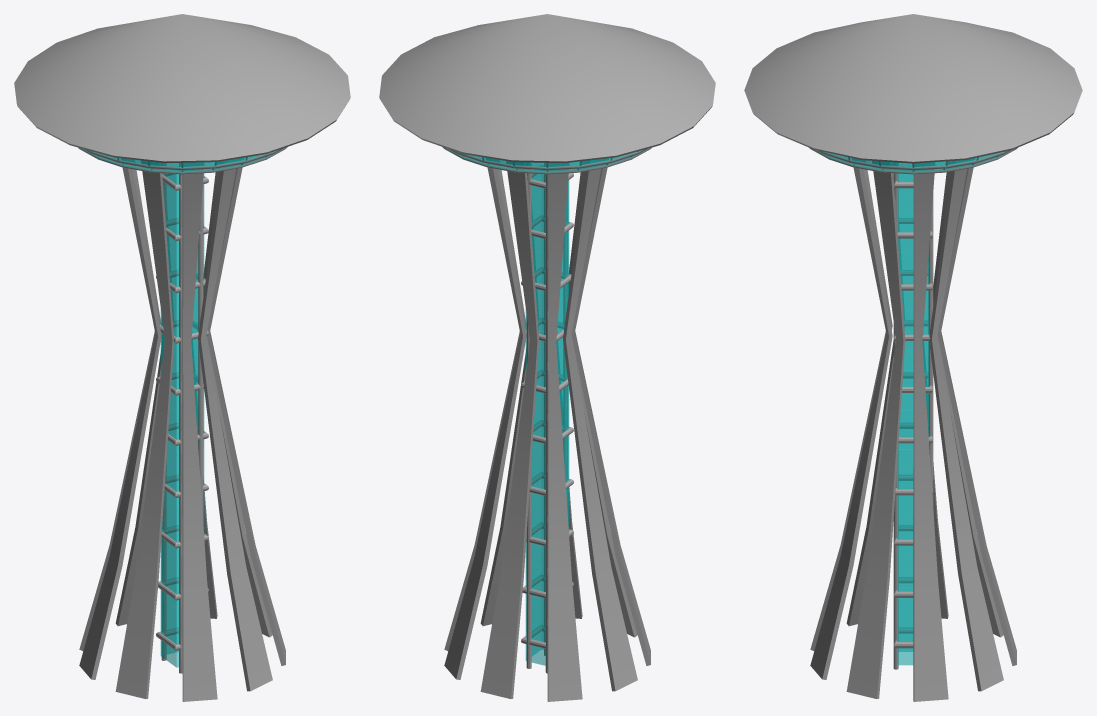
Rendered from TestSkyroom.fbx.
3 renders of one model, left to right at view 1: azimuth 30°, elevation 25°; view 2: azimuth 150°, elevation 25°; view 3: azimuth 270°, elevation 25°, orthographic.
Parts seen in each view (by area): view 1: pCylinder7, pCone1, Elevator004:polySurface15, Elevator004:polySurface10, polySurface31, polySurface28, polySurface27; view 2: pCylinder7, pCone1, Elevator004:polySurface15, Elevator004:polySurface10, polySurface31, polySurface28, polySurface27; view 3: pCylinder7, pCone1, Elevator004:polySurface15, Elevator004:polySurface10, polySurface31, polySurface27, polySurface28.
Boxes of the visible parts, x1=… form: pCylinder7: x1=79, y1=158, x2=285, y2=701; pCone1: x1=14, y1=14, x2=350, y2=163; Elevator004:polySurface15: x1=160, y1=173, x2=204, y2=667; Elevator004:polySurface10: x1=156, y1=163, x2=208, y2=673; polySurface31: x1=87, y1=150, x2=273, y2=168; polySurface28: x1=82, y1=148, x2=283, y2=170; polySurface27: x1=78, y1=147, x2=287, y2=174; pCylinder7: x1=444, y1=158, x2=650, y2=701; pCone1: x1=379, y1=14, x2=715, y2=163; Elevator004:polySurface15: x1=525, y1=173, x2=569, y2=665; Elevator004:polySurface10: x1=521, y1=163, x2=573, y2=673; polySurface31: x1=454, y1=150, x2=642, y2=168; polySurface28: x1=446, y1=148, x2=647, y2=170; polySurface27: x1=442, y1=147, x2=651, y2=174; pCylinder7: x1=810, y1=158, x2=1016, y2=701; pCone1: x1=744, y1=14, x2=1082, y2=163; Elevator004:polySurface15: x1=897, y1=173, x2=929, y2=665; Elevator004:polySurface10: x1=893, y1=163, x2=933, y2=669; polySurface31: x1=821, y1=151, x2=1005, y2=168; polySurface27: x1=809, y1=147, x2=1017, y2=174; polySurface28: x1=816, y1=150, x2=1010, y2=170.
Size of the model in its own units: 4093 by 8671 by 4093.
